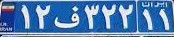character: (53, 5, 81, 30), (33, 2, 53, 31), (82, 3, 101, 31), (116, 2, 134, 31), (101, 2, 117, 31), (18, 3, 31, 32), (139, 8, 154, 31), (156, 8, 170, 32)
